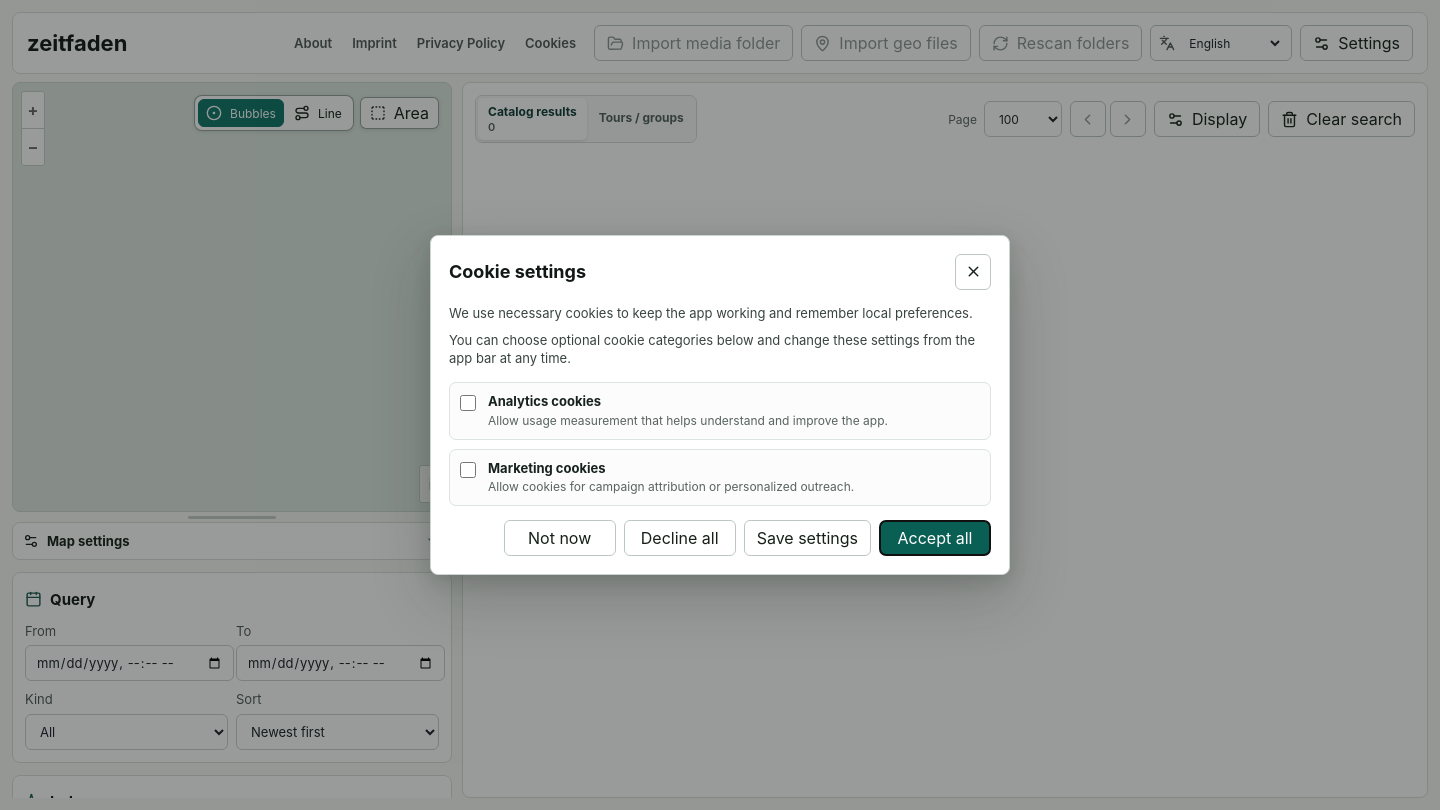
App pagination › stores cookie consent preferences and reopens the dialog from the top bar
Expected: the dialog "Cookie settings" is shown, [430,235,1010,575]
Expected: the text "We use necessary cookies" is shown, [449,305,973,321]
What coordinates should you click on to do the following:
click the checkbox labelled "Analytics cookies"
I would click on:
 (468, 403)
Its box is [460,395,476,411].
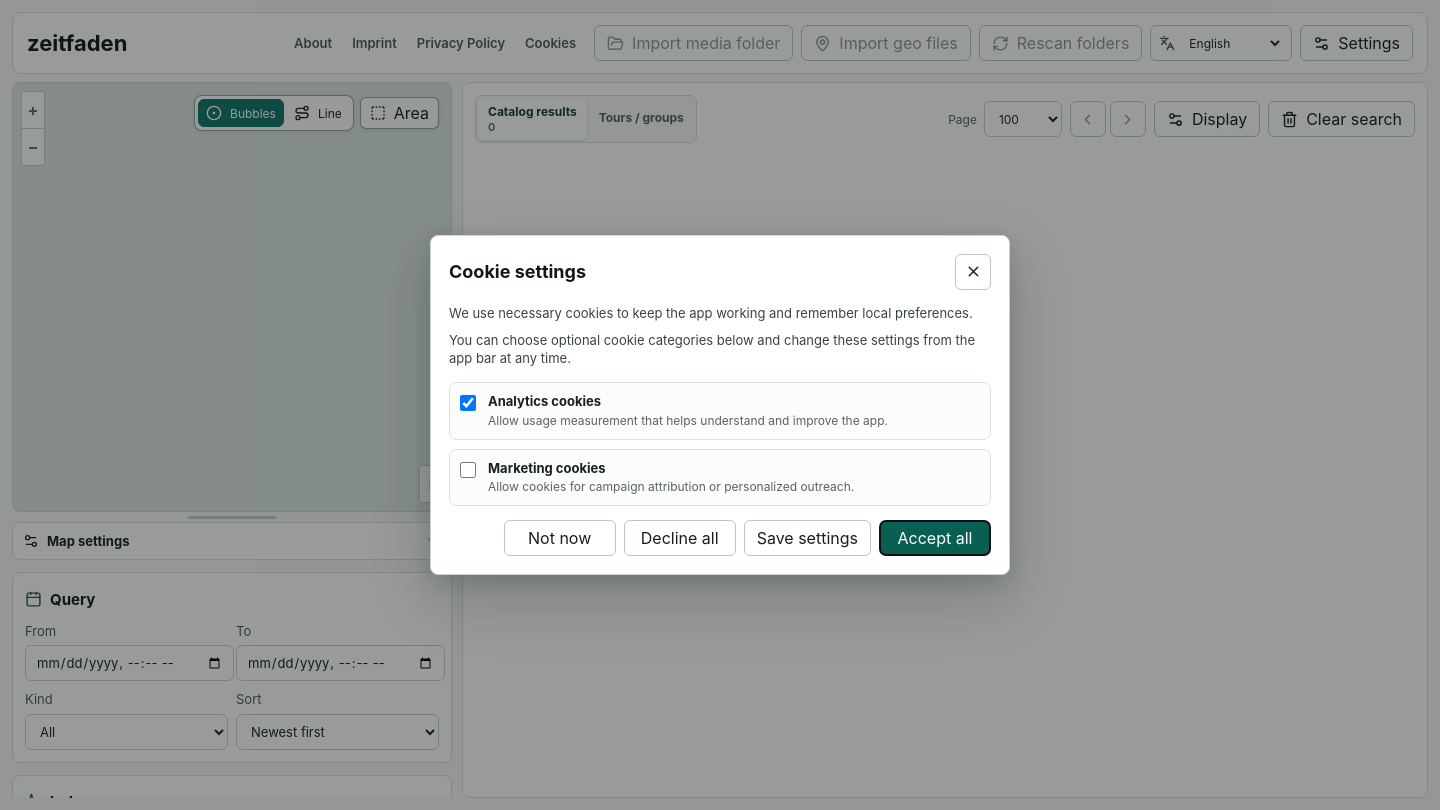
What coordinates should you click on to do the following:
click the button "Save settings"
I would click on:
 (807, 538)
Its box is [744,520,871,556].
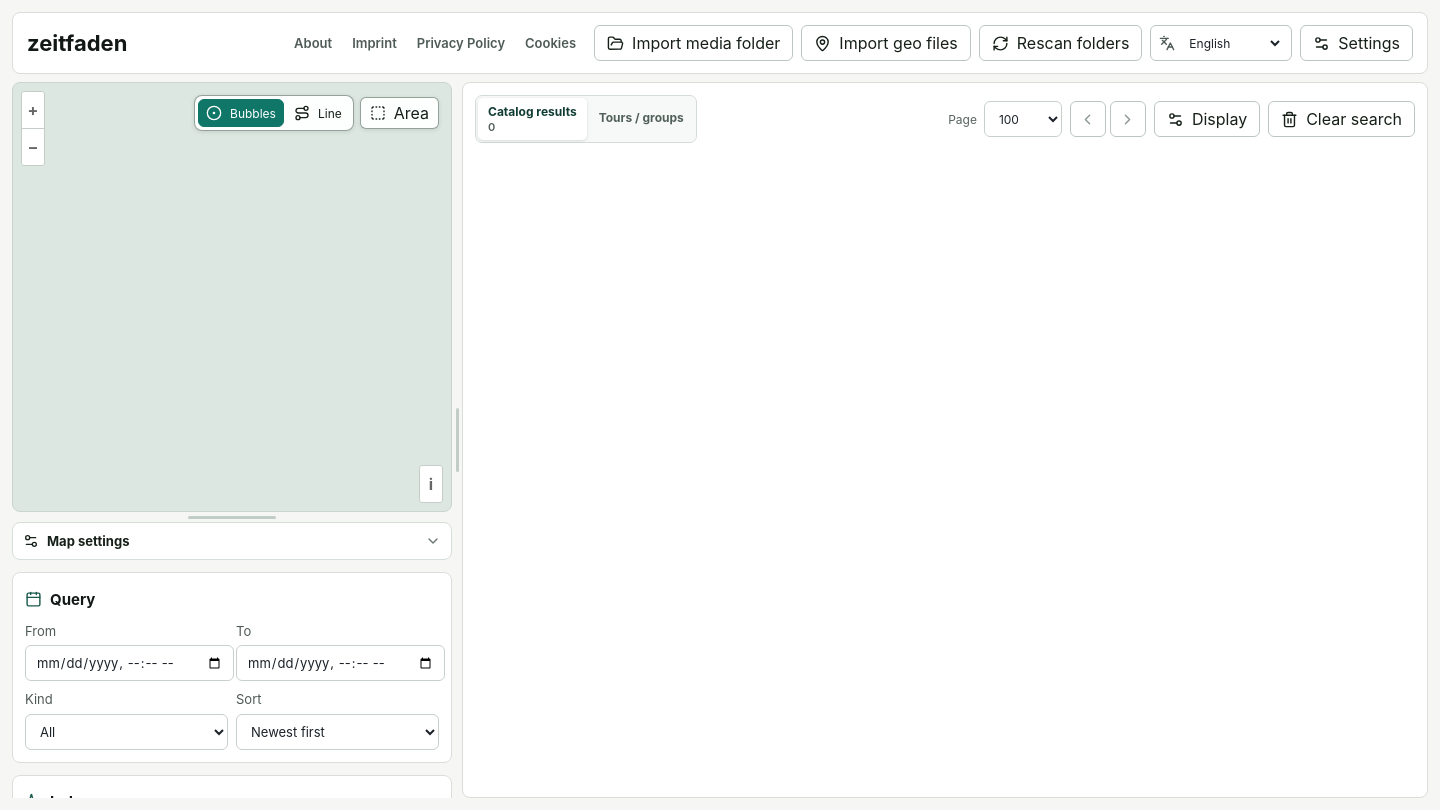
Result: the heading "Cookie settings" is gone
What coordinates should you click on to do the following:
click the button "Cookies"
I would click on:
 (550, 43)
Its box is [523,29,578,57].
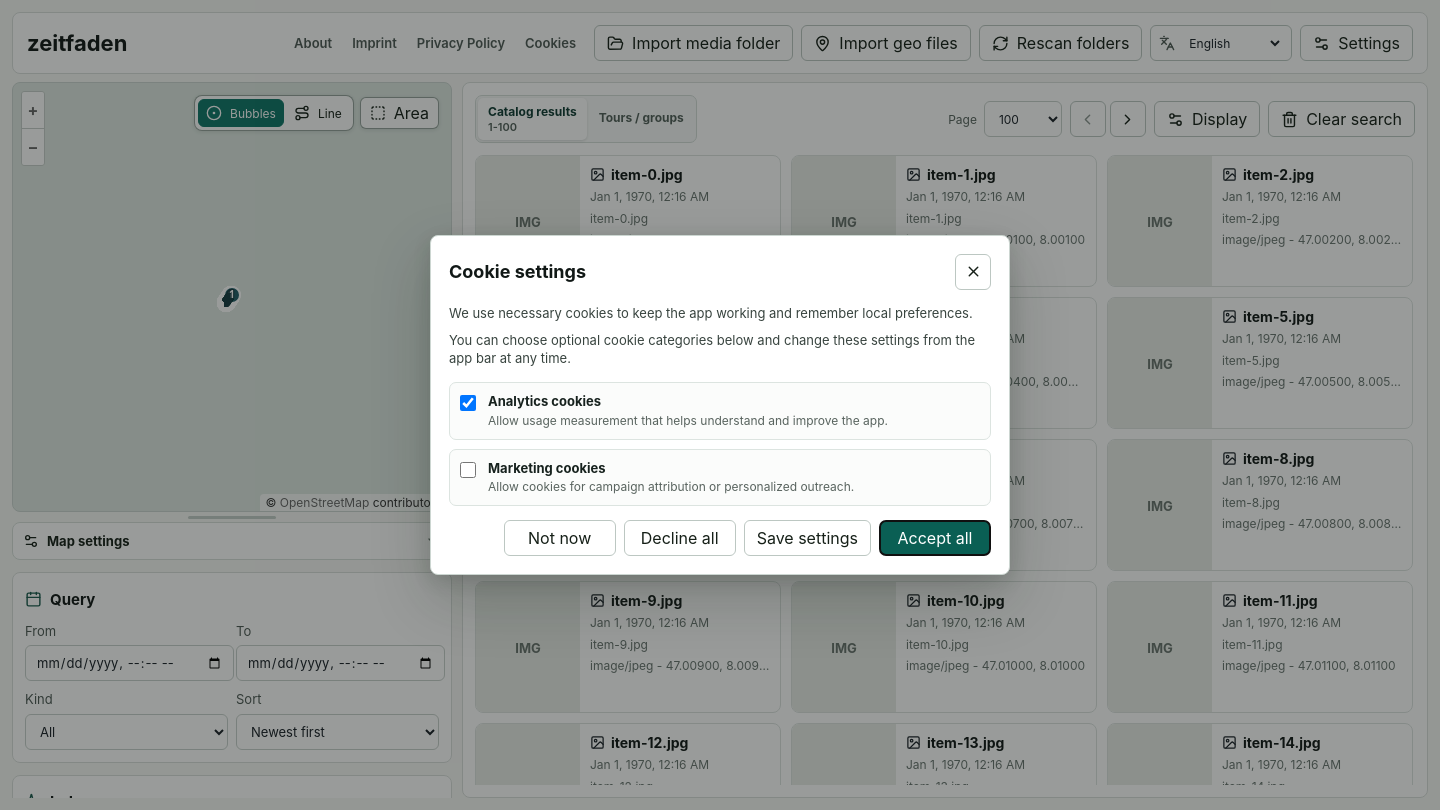
Result: the dialog "Cookie settings" is shown at [430,235,1010,575]
Result: the checkbox labelled "Analytics cookies" is checked at [460,395,476,411]
